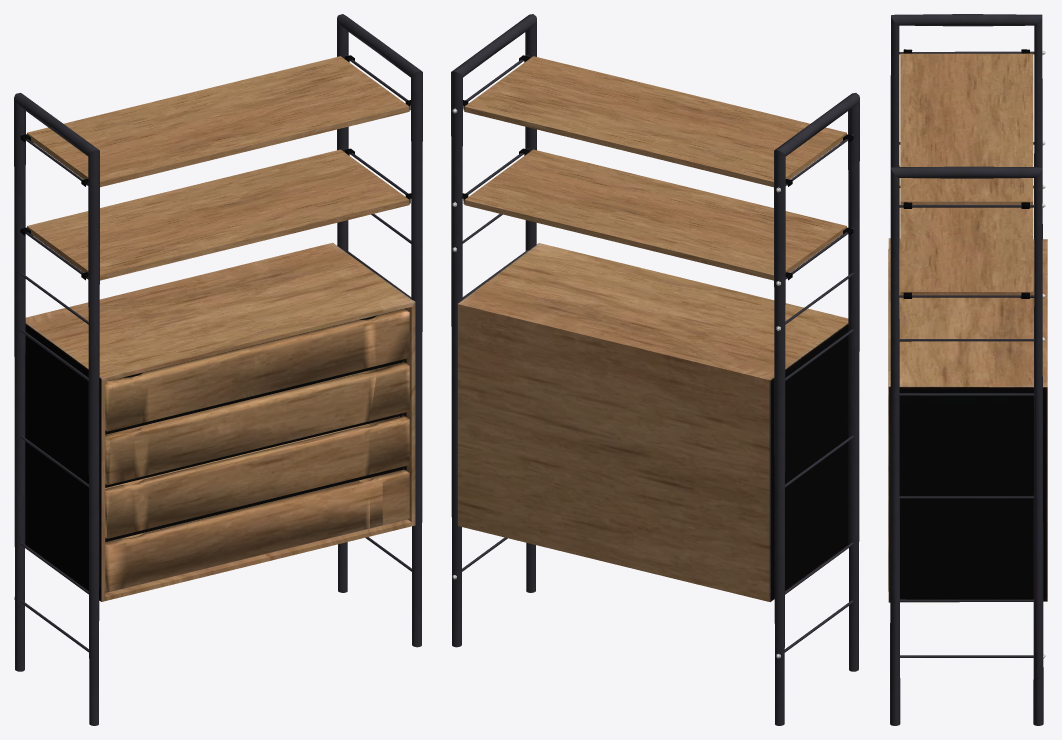
File: drawer_cabinet.glb
3 views of the same model, side by side, from view 1: azimuth 30°, elevation 25°; view 2: azimuth 150°, elevation 25°; view 3: azimuth 270°, elevation 25° (orthographic). The views are drawn at different scales.
Visible parts, largest first — view 1: drawer_cabinet; view 2: drawer_cabinet; view 3: drawer_cabinet.
Part boxes in pixels (bbox=[...]): drawer_cabinet: bbox=[14, 14, 422, 725]; drawer_cabinet: bbox=[451, 14, 859, 725]; drawer_cabinet: bbox=[888, 14, 1047, 725].
Size of the model in its own units: 1.14 by 1.88 by 0.4881.
1 material, 1 textured.
